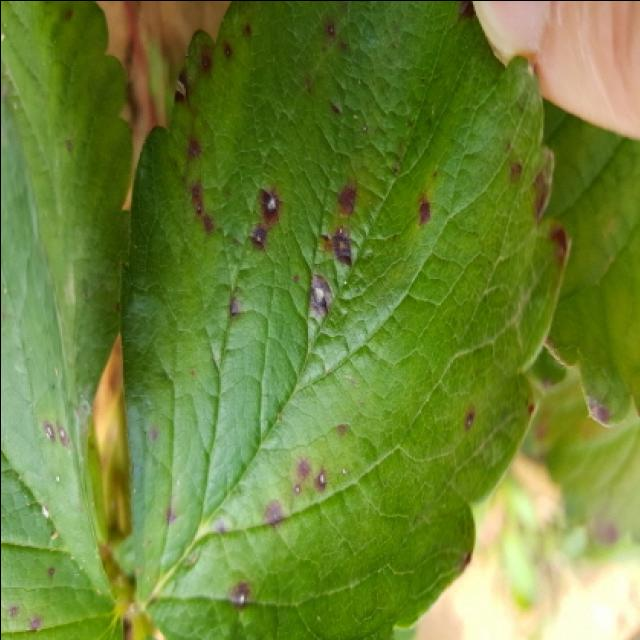Leaf Spot: (117, 2, 569, 640), (2, 99, 125, 640), (2, 2, 132, 465)
